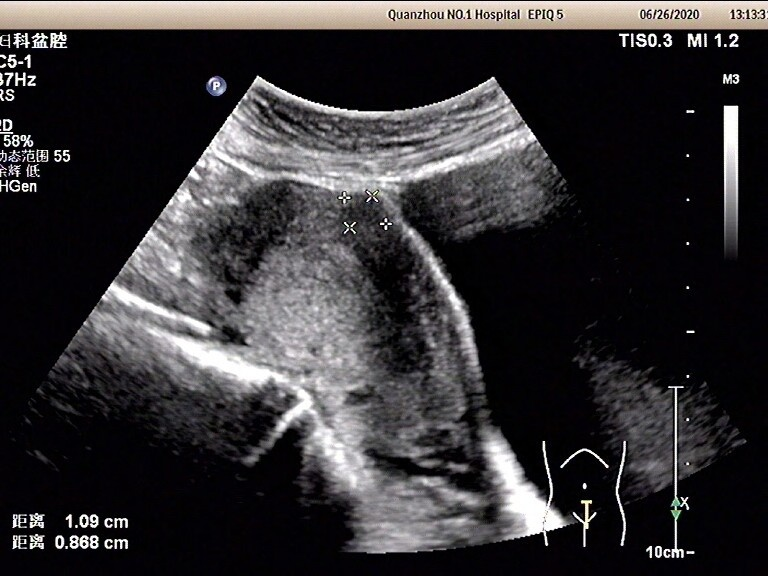肌瘤: (343, 195, 388, 230)
